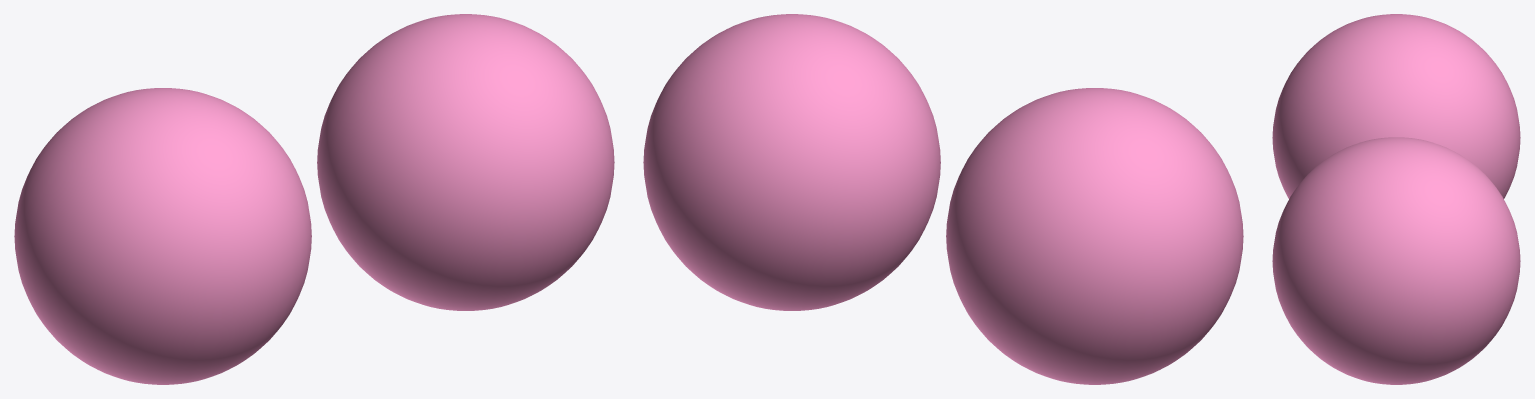
The model's file is Quark.glb.
The picture shows the model from 3 angles, left to right: view 1: azimuth 30°, elevation 25°; view 2: azimuth 150°, elevation 25°; view 3: azimuth 270°, elevation 25°; orthographic projection. The views are drawn at different scales.
Parts seen in each view (by area): view 1: Proton Outer Sphere, Neutron Outer Sphere; view 2: Proton Outer Sphere, Neutron Outer Sphere; view 3: Neutron Outer Sphere, Proton Outer Sphere.
Boxes of the visible parts, x1=… form: Proton Outer Sphere: x1=14, y1=88, x2=311, y2=384; Neutron Outer Sphere: x1=317, y1=14, x2=614, y2=310; Proton Outer Sphere: x1=946, y1=88, x2=1243, y2=384; Neutron Outer Sphere: x1=643, y1=14, x2=940, y2=310; Neutron Outer Sphere: x1=1272, y1=137, x2=1520, y2=384; Proton Outer Sphere: x1=1272, y1=14, x2=1520, y2=198.
Size of what is drawn, in the model's own units: 8.7 by 4 by 4.
